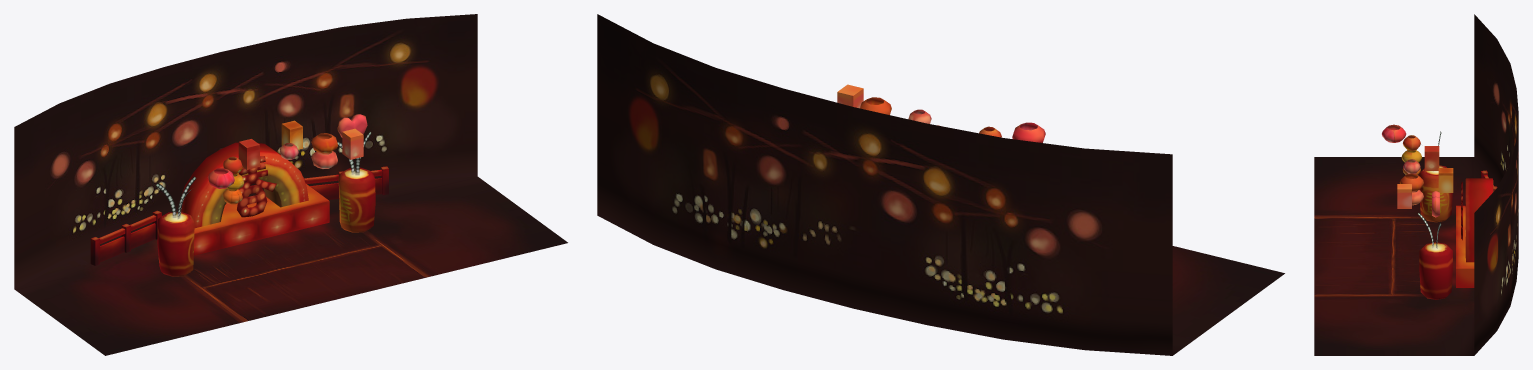
The model's file is newyear.DAE.
The picture shows the model from 3 angles, left to right: view 1: azimuth 30°, elevation 25°; view 2: azimuth 150°, elevation 25°; view 3: azimuth 270°, elevation 25°; orthographic projection. The views are drawn at different scales.
Visible parts, largest first — view 1: newyear, Cylinder01, Object01; view 2: newyear, Object01; view 3: newyear, Object01, Cylinder01.
Boxes of the visible parts, x1,y1,x2,y2 form: newyear: [14, 14, 567, 355]; Cylinder01: [90, 142, 388, 265]; Object01: [155, 114, 375, 276]; newyear: [597, 14, 1284, 355]; Object01: [837, 84, 1045, 142]; newyear: [1314, 14, 1518, 355]; Object01: [1382, 124, 1453, 299]; Cylinder01: [1456, 170, 1497, 287].
Size of the model in its own units: 316 by 137 by 106.
3 materials, 3 textured.
